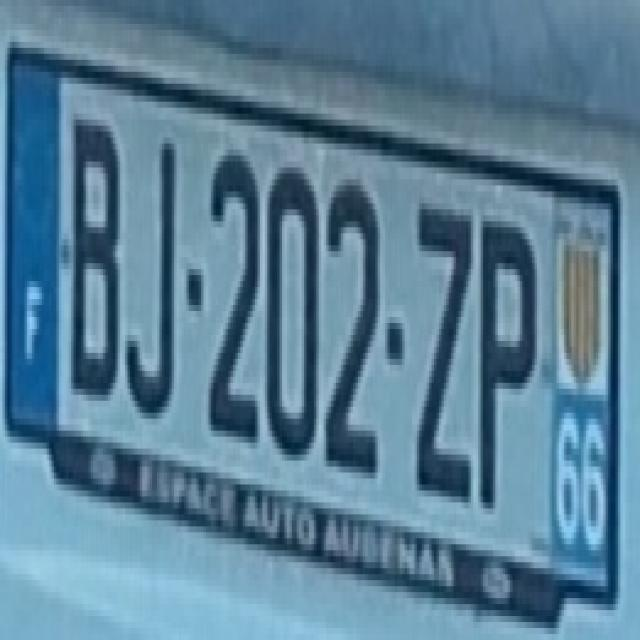EU: (9, 48, 620, 616)
France: (3, 56, 58, 444)
